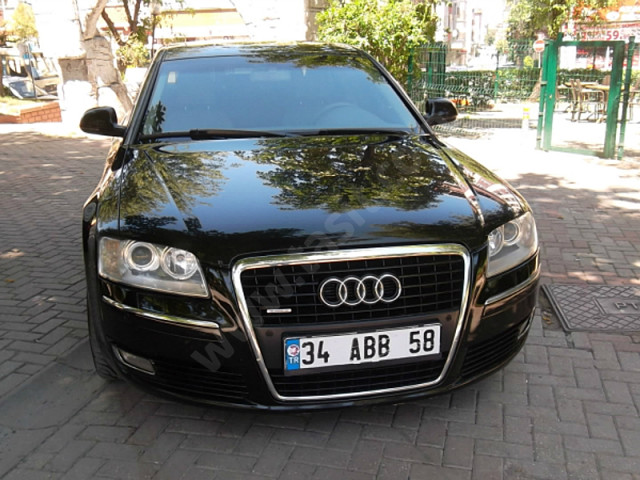audi: (312, 274, 407, 311)
